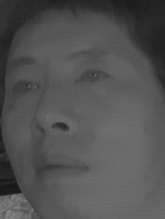eye: (73, 65, 110, 88), (9, 76, 41, 100)
mouth: (33, 150, 90, 185)
